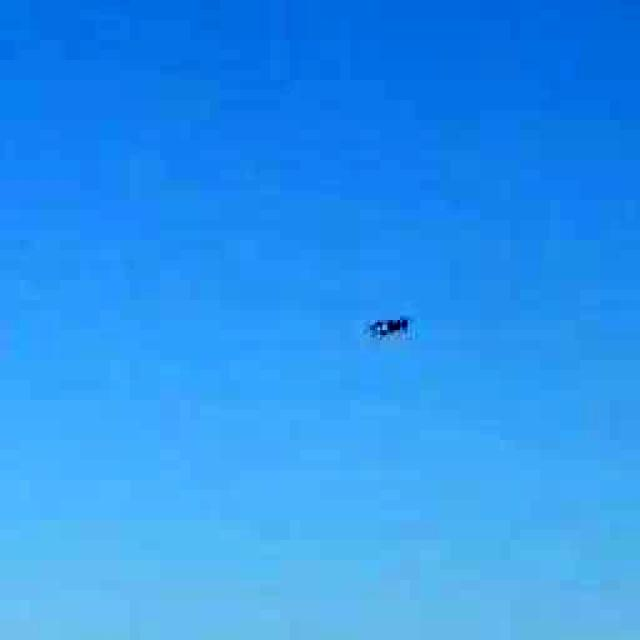bird: (338, 290, 442, 355)
